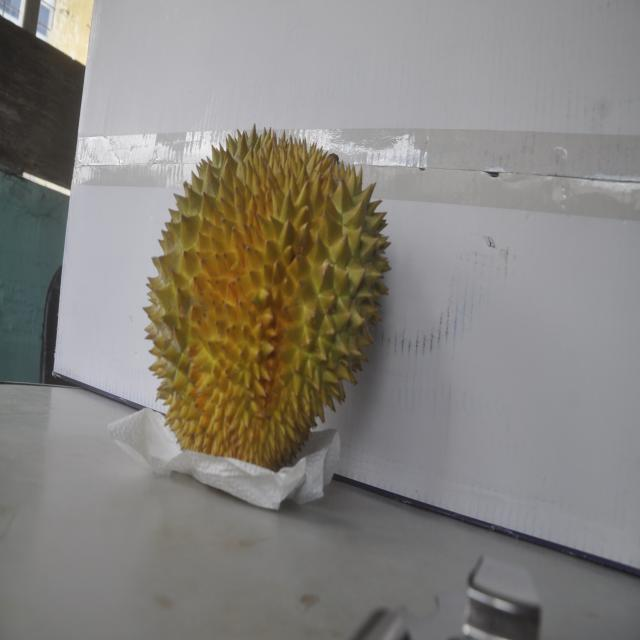mature: (141, 122, 382, 474)
